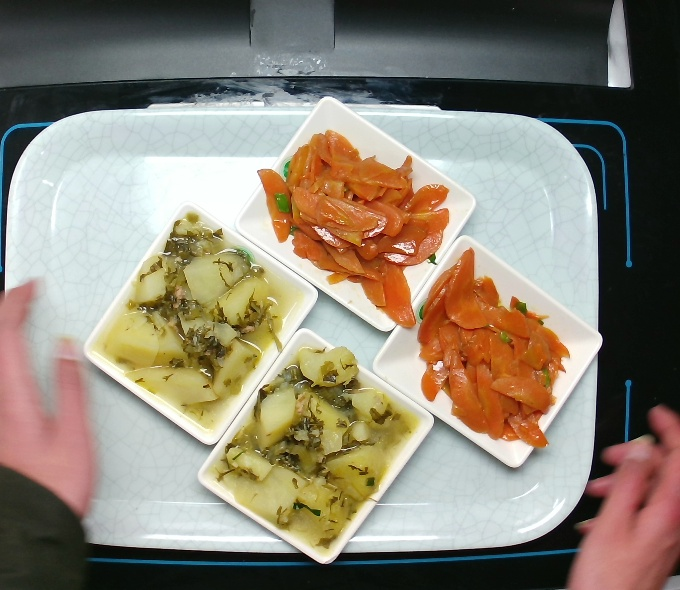wcq-HuLuoBo: (260, 125, 452, 330), (411, 253, 571, 463)
wcq-XueCaiTuDou: (108, 212, 288, 418), (220, 346, 411, 540)
